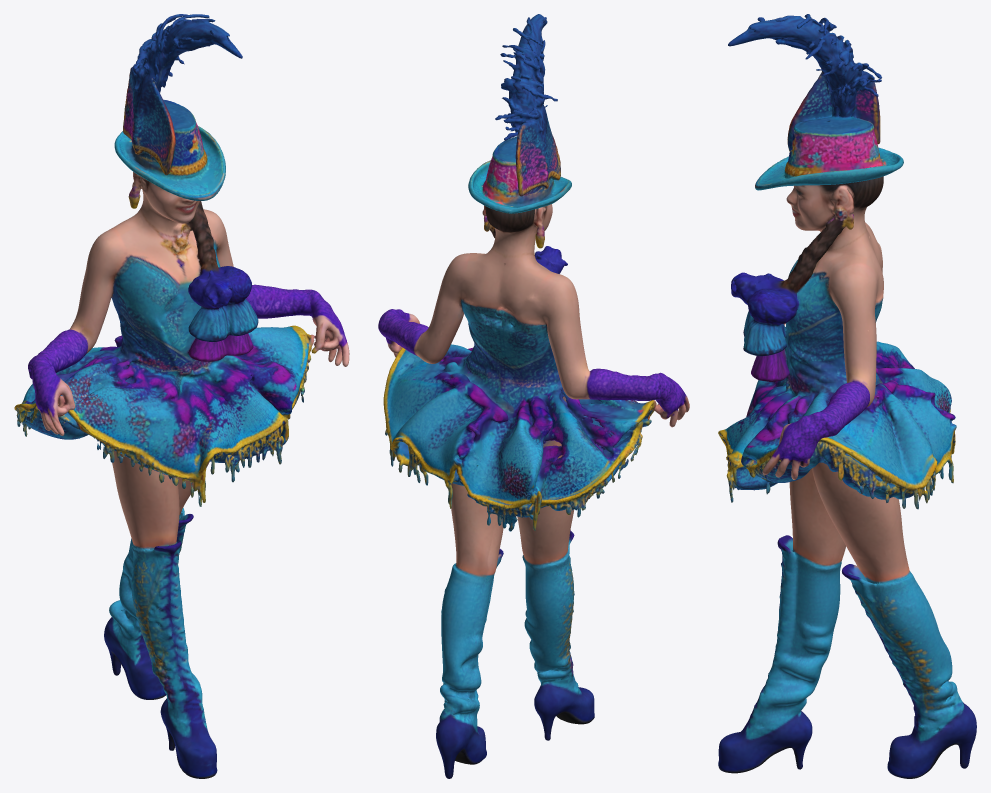
File: morenadachica.glb
The picture shows the model from 3 angles, left to right: view 1: azimuth 30°, elevation 25°; view 2: azimuth 150°, elevation 25°; view 3: azimuth 270°, elevation 25°; orthographic projection. The views are drawn at different scales.
Parts seen in each view (by area): view 1: tripo_node_a1308934-584f-4bef-b47d-637dff6de308; view 2: tripo_node_a1308934-584f-4bef-b47d-637dff6de308; view 3: tripo_node_a1308934-584f-4bef-b47d-637dff6de308.
Boxes of the visible parts, <box> form: tripo_node_a1308934-584f-4bef-b47d-637dff6de308: <box>14,14,349,778</box>; tripo_node_a1308934-584f-4bef-b47d-637dff6de308: <box>378,14,689,778</box>; tripo_node_a1308934-584f-4bef-b47d-637dff6de308: <box>718,14,976,778</box>.
Bounding box in the file's own units: 0.4303 × 1 × 0.3056.
Materials: 1 (1 with a texture image).
